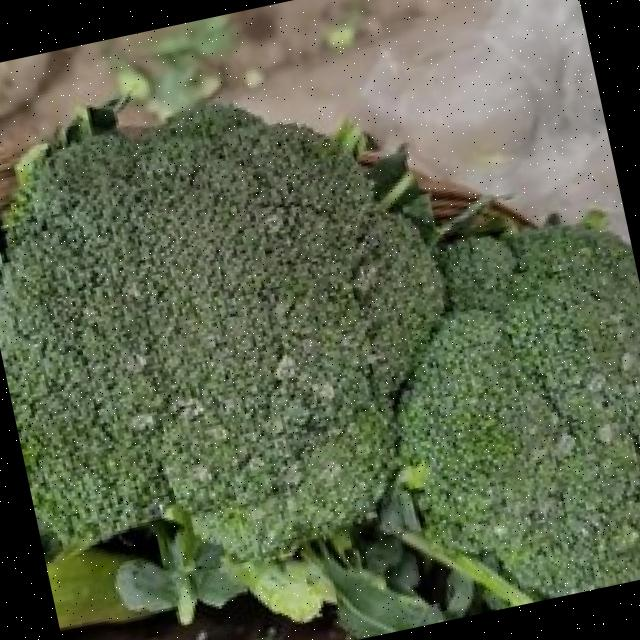Broccoli: (0, 108, 441, 556), (0, 110, 441, 556), (396, 227, 640, 598), (396, 227, 640, 597)
